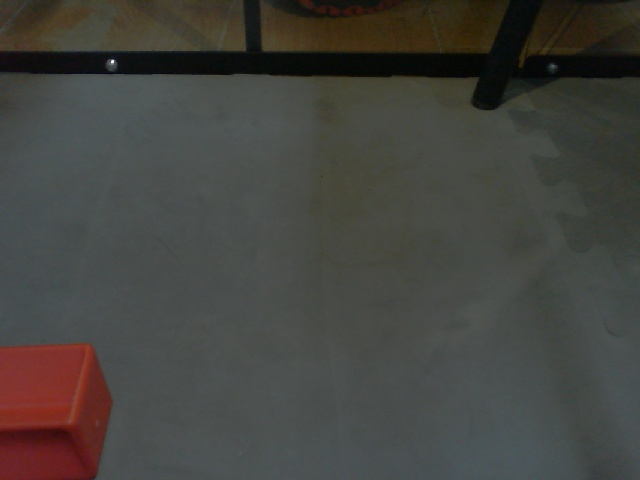RedSample: (3, 339, 115, 480)
